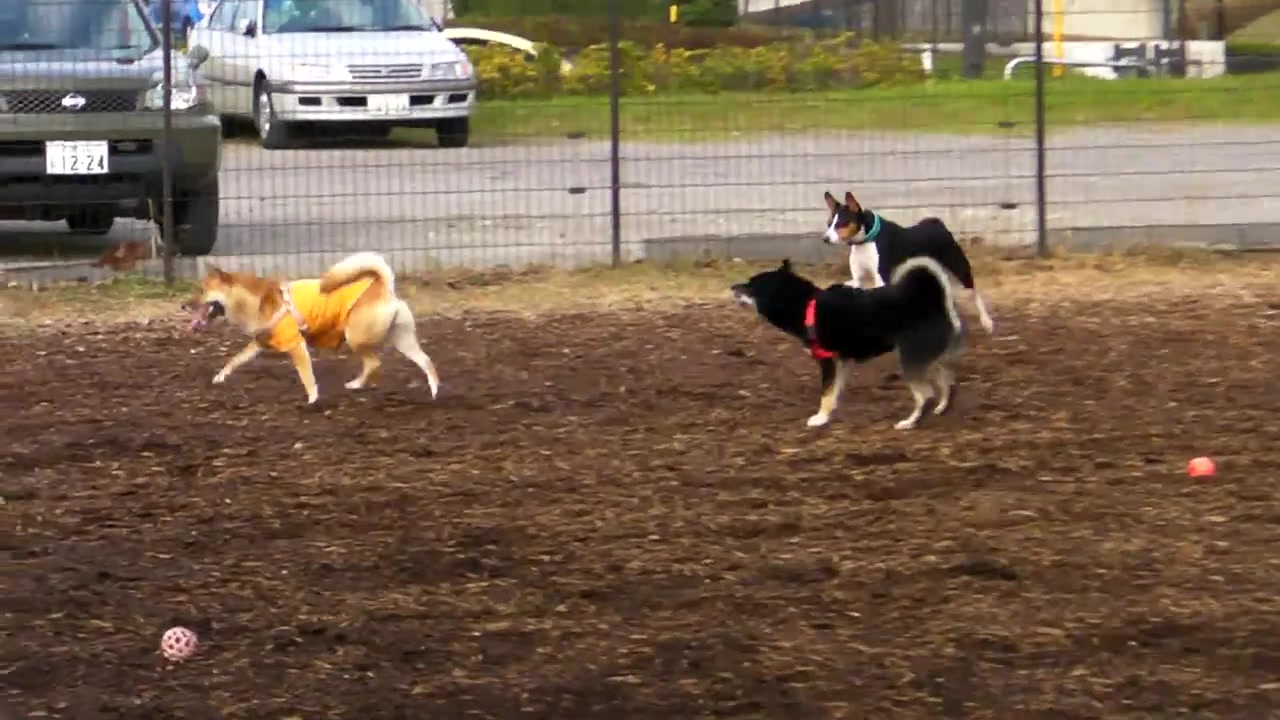dog: (185, 250, 443, 401)
